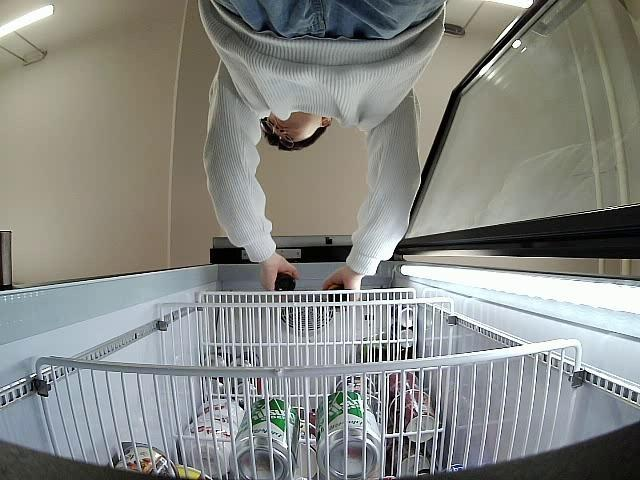17_vita500: (326, 284, 350, 306), (274, 271, 296, 295)
